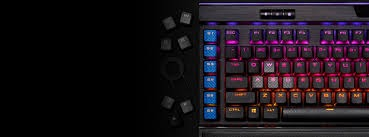keyboard: (202, 26, 369, 125)
